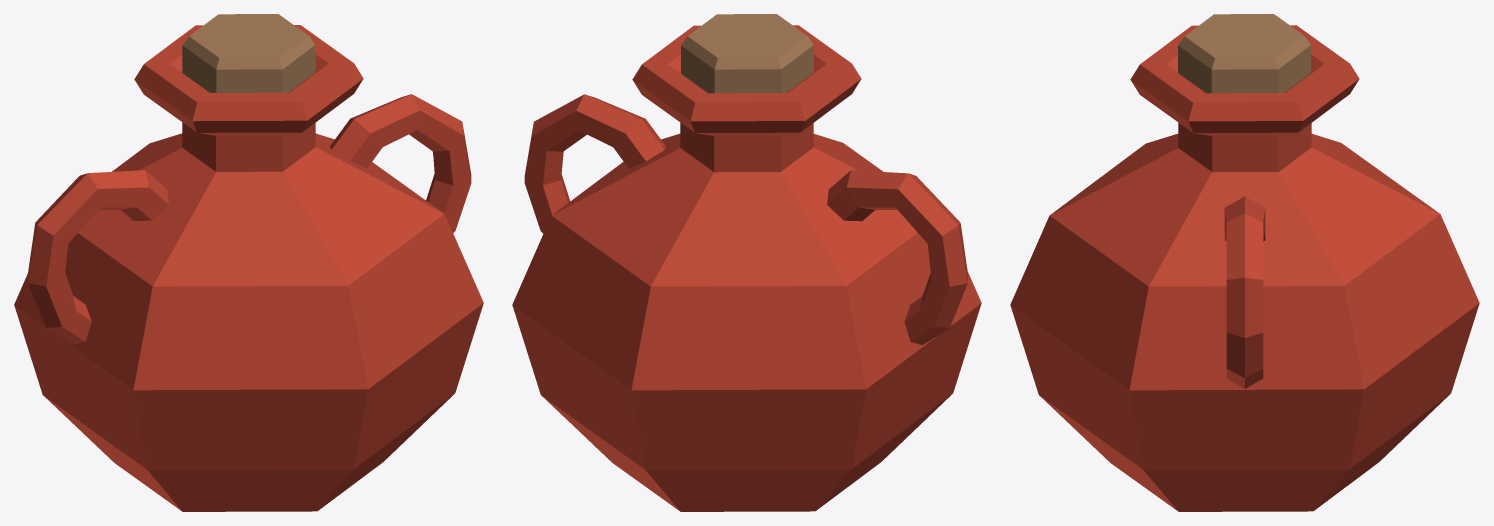
File: Red_Potion_9(Doubke-Handle).fbx
3 renders of one model, left to right at view 1: azimuth 30°, elevation 25°; view 2: azimuth 150°, elevation 25°; view 3: azimuth 270°, elevation 25°, orthographic.
Visible parts, largest first — view 1: Red_Potion_9(Doubke-Handle); view 2: Red_Potion_9(Doubke-Handle); view 3: Red_Potion_9(Doubke-Handle).
Boxes of the visible parts, <box> form: Red_Potion_9(Doubke-Handle): <box>14,14,483,511</box>; Red_Potion_9(Doubke-Handle): <box>512,14,981,511</box>; Red_Potion_9(Doubke-Handle): <box>1010,14,1479,511</box>.
Bounding box in the file's own units: 22.59 × 20.77 × 20.73.
